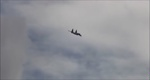maybay_muctieu: (67, 27, 84, 37)
